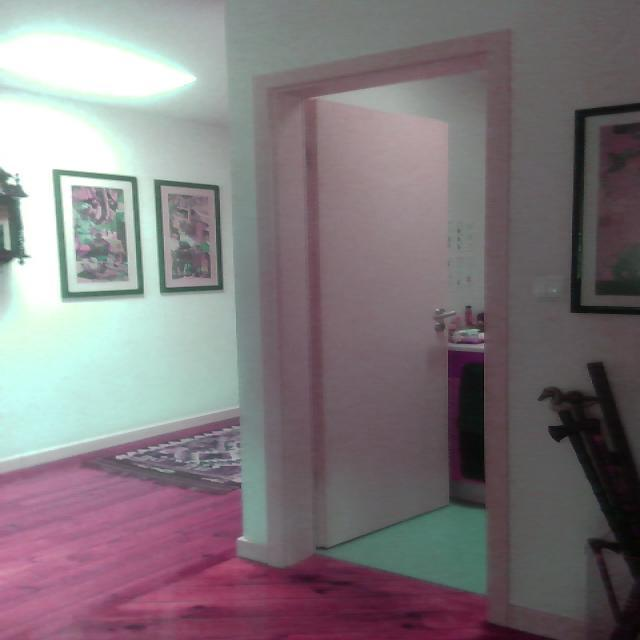door: (252, 29, 529, 622)
